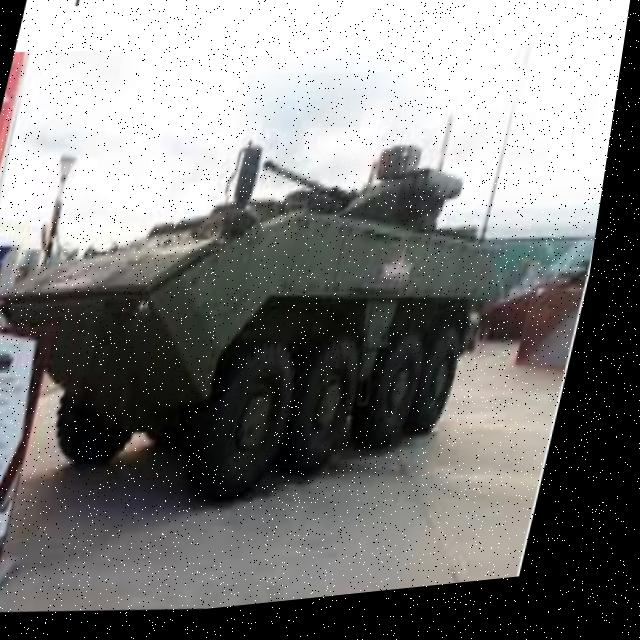MIL_APC: (0, 148, 574, 546)
